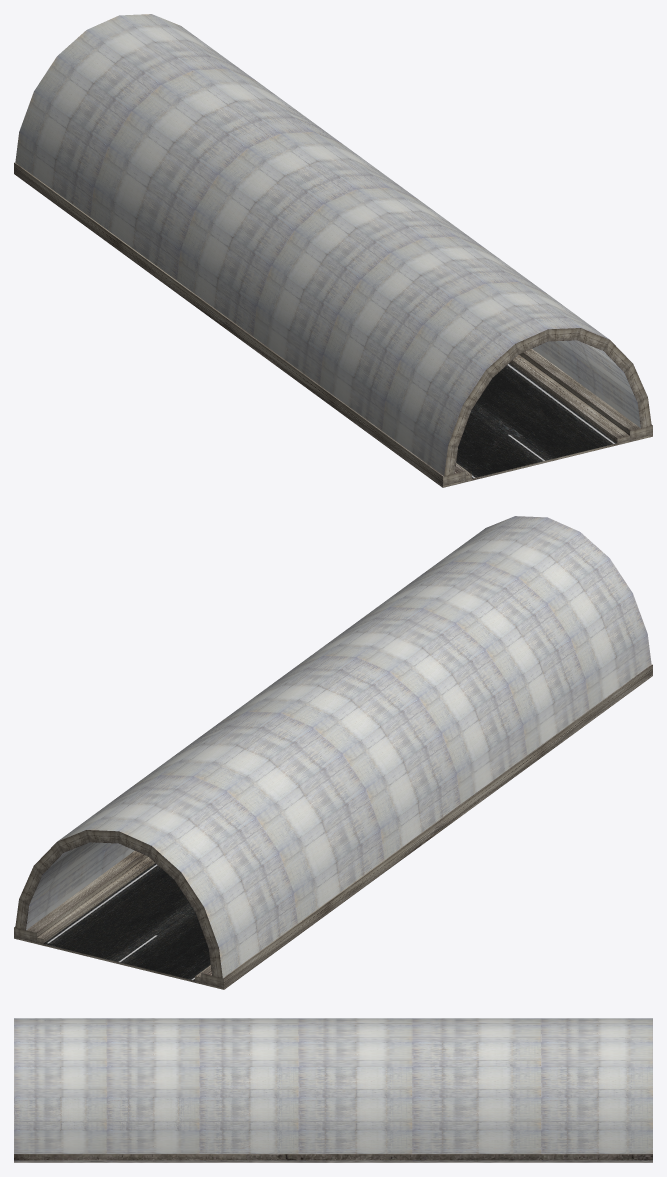
Rendered from Simple Tunnel.gltf.
The picture shows the model from 3 angles, top to bottom: view 1: azimuth 30°, elevation 25°; view 2: azimuth 150°, elevation 25°; view 3: azimuth 270°, elevation 25°; orthographic projection. The views are drawn at different scales.
Visible parts, largest first — view 1: Tunnel, Road; view 2: Tunnel, Road; view 3: Tunnel, Road.
Boxes of the visible parts, left/top/right/bottom form: Tunnel: left=15, top=14, right=651, bottom=476; Road: left=14, top=162, right=652, bottom=487; Tunnel: left=15, top=516, right=651, bottom=978; Road: left=14, top=664, right=652, bottom=989; Tunnel: left=14, top=1018, right=652, bottom=1161; Road: left=14, top=1154, right=652, bottom=1162.
Size of the model in its own units: 30.18 by 18.27 by 107.
Materials: 4 (4 with a texture image).
